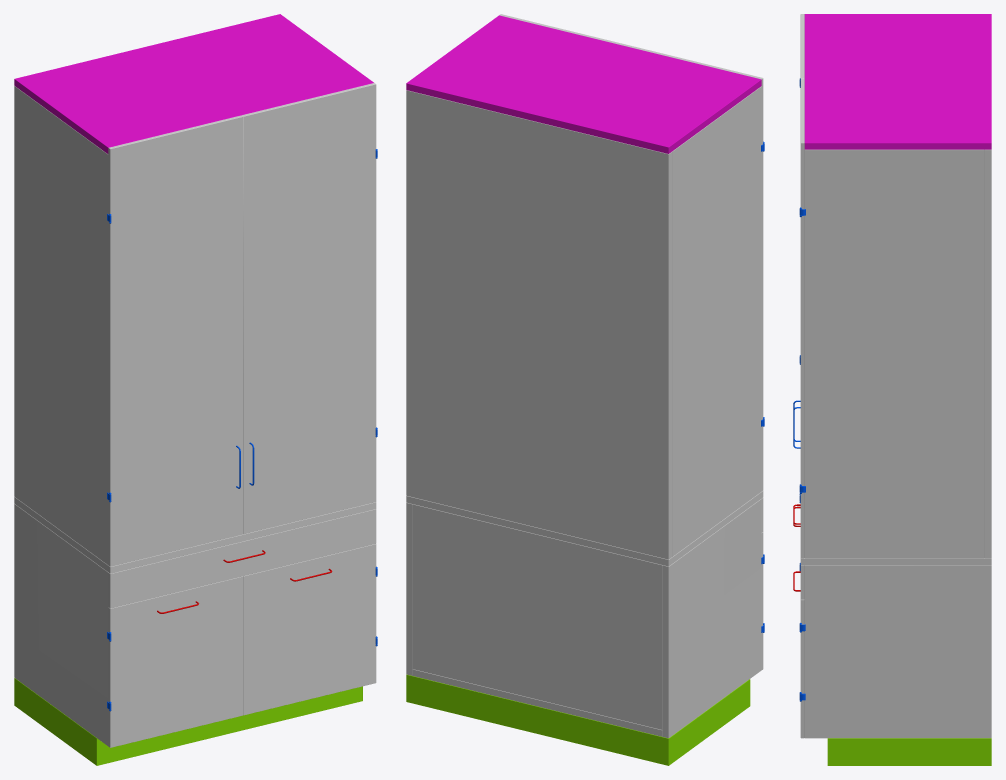
Rendered from Cabinet01b.fbx.
3 renders of one model, left to right at view 1: azimuth 30°, elevation 25°; view 2: azimuth 150°, elevation 25°; view 3: azimuth 270°, elevation 25°, orthographic.
Visible parts, largest first — view 1: CabinetDoor02, Cabinet01b, Drawer02, Drawer03, Drawer01; view 2: Cabinet01b, CabinetDoor02; view 3: Cabinet01b, CabinetDoor02, Drawer03.
Boxes of the visible parts, box(x1,y1,x2,y2) form: CabinetDoor02: box(108, 83, 376, 566); Cabinet01b: box(14, 14, 377, 765); Drawer02: box(108, 576, 243, 747); Drawer03: box(243, 544, 376, 715); Drawer01: box(108, 509, 376, 608); Cabinet01b: box(406, 15, 764, 765); CabinetDoor02: box(499, 14, 763, 491); Cabinet01b: box(799, 14, 991, 765); CabinetDoor02: box(793, 14, 804, 558); Drawer03: box(793, 571, 804, 738).
Size of the model in its own units: 101 by 225 by 65.
